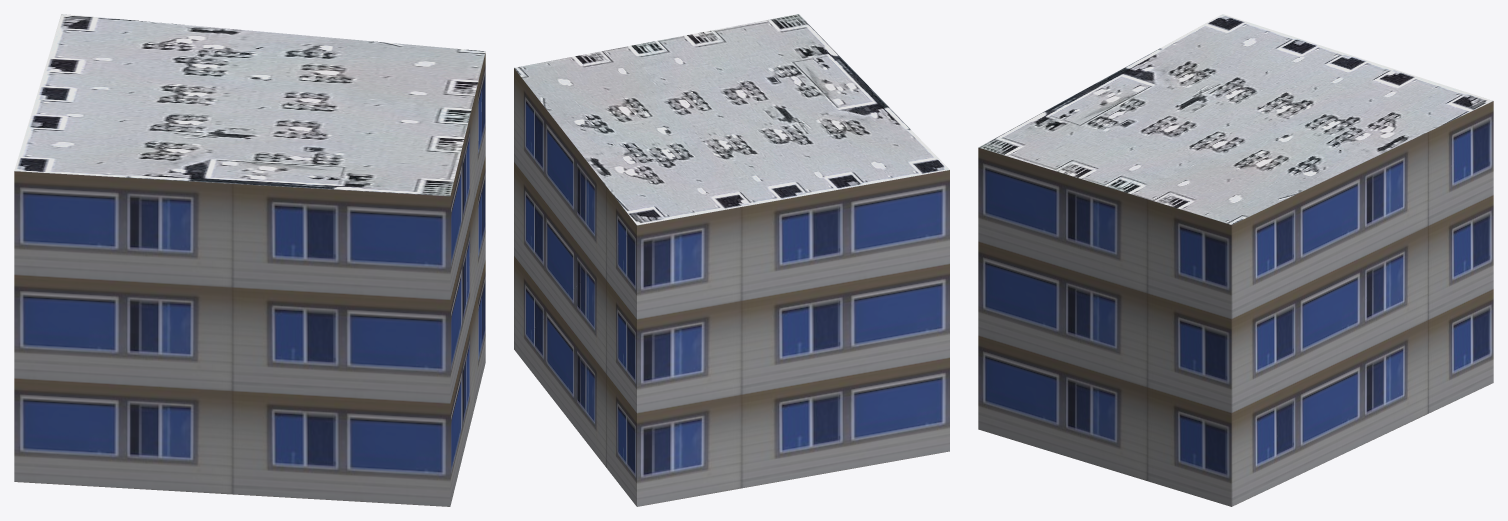
The model's file is ResTex__3606.fbx.
The picture shows the model from 3 angles, left to right: view 1: azimuth 30°, elevation 25°; view 2: azimuth 150°, elevation 25°; view 3: azimuth 270°, elevation 25°; orthographic projection. The views are drawn at different scales.
Visible parts, largest first — view 1: CityEngineMaterial_23_m, CityEngineMaterial_4_m; view 2: CityEngineMaterial_23_m, CityEngineMaterial_4_m; view 3: CityEngineMaterial_23_m, CityEngineMaterial_4_m.
Boxes of the visible parts, box(x1,y1,x2,y2) form: CityEngineMaterial_23_m: box(14, 53, 485, 506); CityEngineMaterial_4_m: box(14, 14, 485, 195); CityEngineMaterial_23_m: box(514, 68, 949, 506); CityEngineMaterial_4_m: box(514, 14, 949, 225); CityEngineMaterial_23_m: box(978, 101, 1493, 506); CityEngineMaterial_4_m: box(978, 14, 1492, 224).
Bounding box in the file's own units: 14.44 × 9 × 14.9.
Materials: 2 (2 with a texture image).
